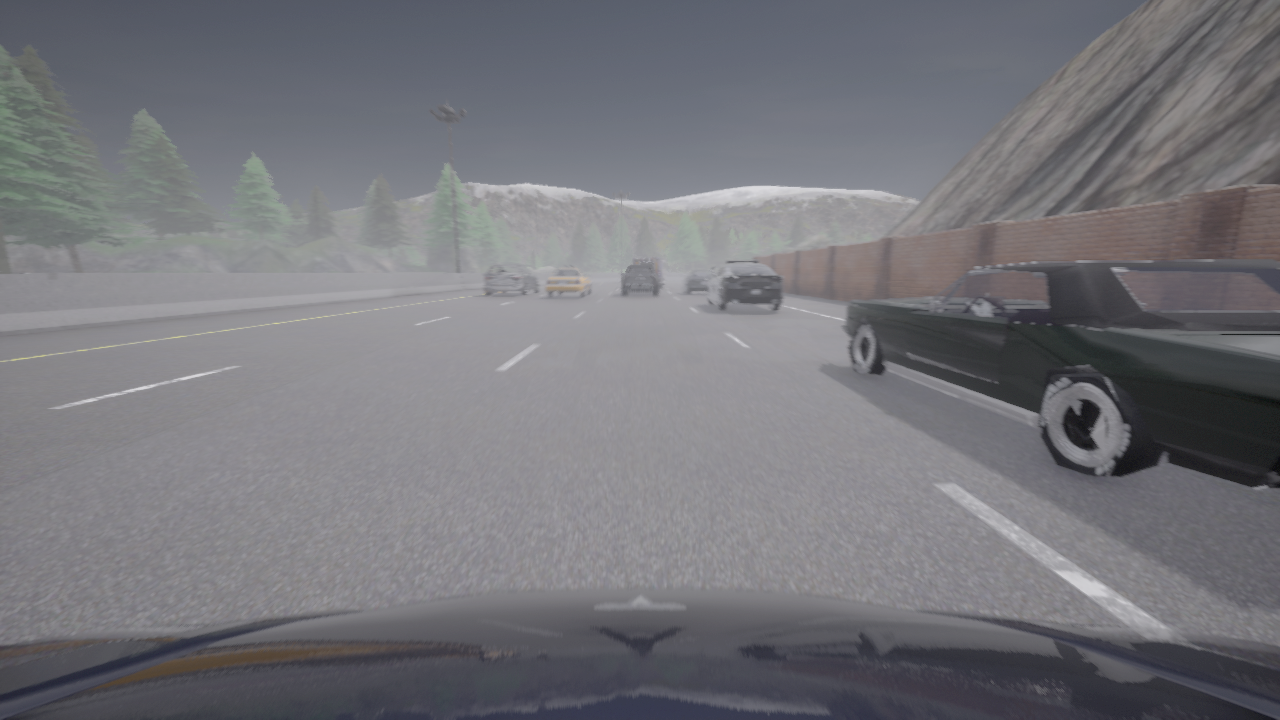cyclist: (0, 588, 1279, 719), (841, 259, 1279, 488), (707, 260, 782, 310), (484, 264, 539, 295), (545, 265, 591, 297), (622, 265, 658, 295), (632, 257, 668, 287), (681, 270, 714, 294)
